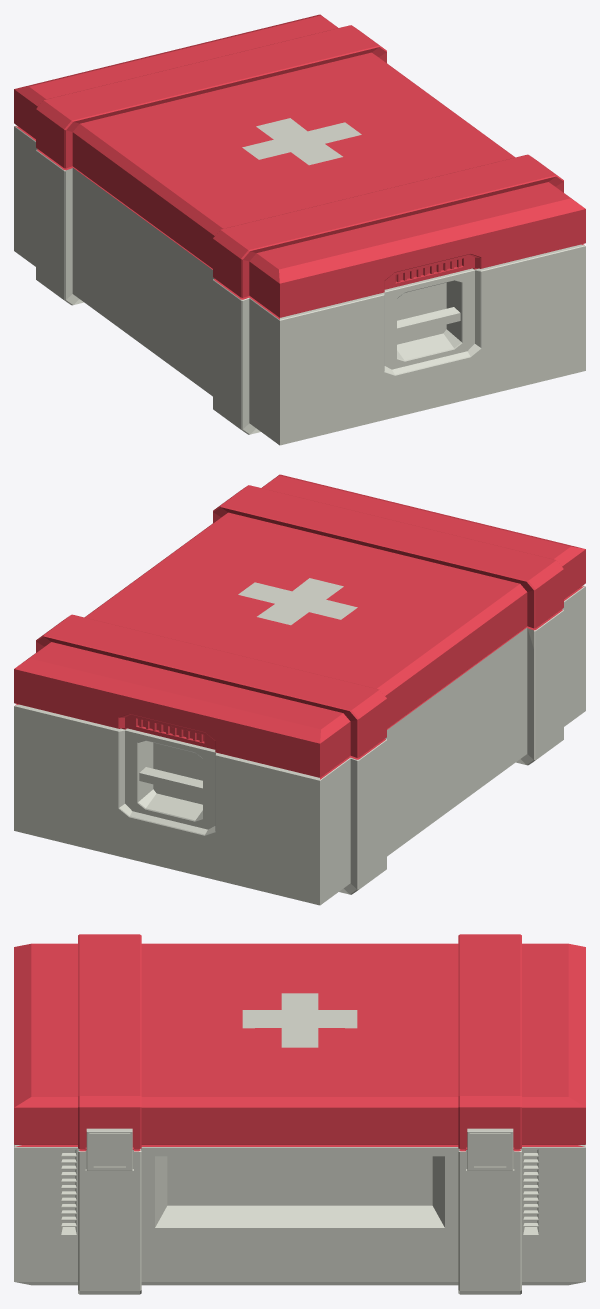
File: healthChest.fbx
3 renders of one model, top to bottom at view 1: azimuth 30°, elevation 25°; view 2: azimuth 150°, elevation 25°; view 3: azimuth 270°, elevation 25°, orthographic. The views are drawn at different scales.
Parts seen in each view (by area): view 1: Cube; view 2: Cube; view 3: Cube.
Boxes of the visible parts, bbox=[...] form: Cube: bbox=[14, 14, 585, 445]; Cube: bbox=[14, 474, 585, 905]; Cube: bbox=[14, 934, 585, 1294].
Bounding box in the file's own units: 173 × 93.43 × 244.
